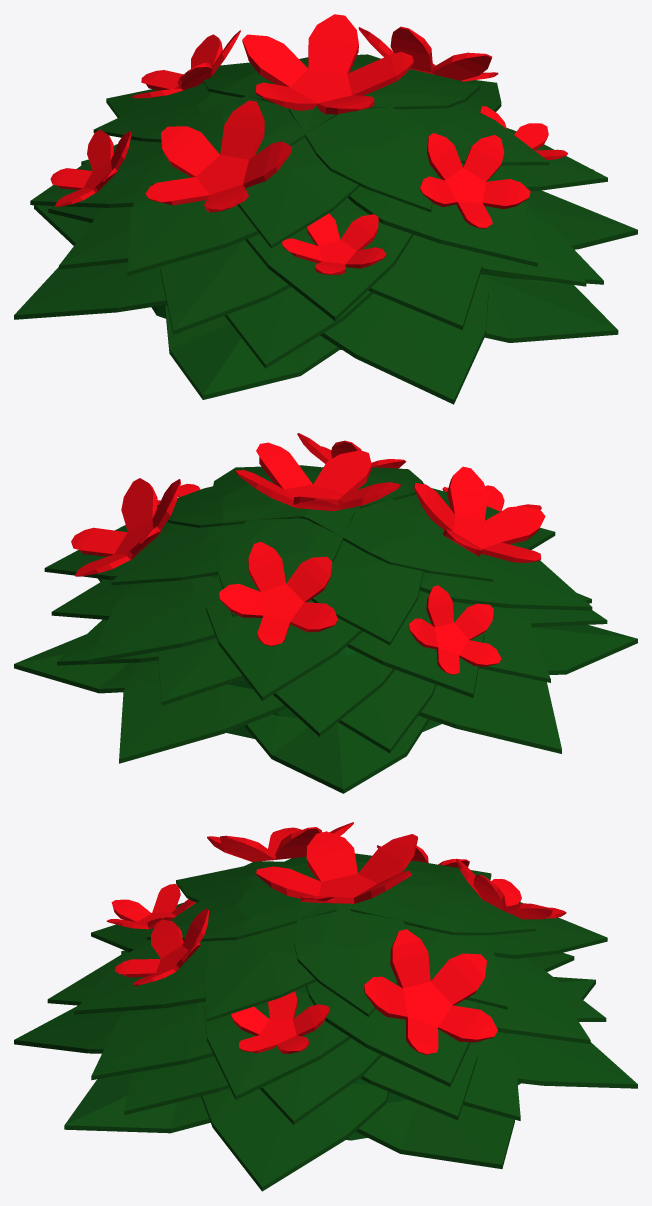
The model's file is BushRedFlowers.obj.
3 renders of one model, top to bottom at view 1: azimuth 30°, elevation 25°; view 2: azimuth 150°, elevation 25°; view 3: azimuth 270°, elevation 25°, orthographic. The views are drawn at different scales.
Parts seen in each view (by area): view 1: BushRedFlowers_Cube.004; view 2: BushRedFlowers_Cube.004; view 3: BushRedFlowers_Cube.004.
Part boxes in pixels (bbox=[...]): BushRedFlowers_Cube.004: bbox=[14, 14, 637, 404]; BushRedFlowers_Cube.004: bbox=[14, 433, 637, 793]; BushRedFlowers_Cube.004: bbox=[14, 822, 637, 1191].
Bounding box in the file's own units: 9.91 × 3.73 × 9.99.
